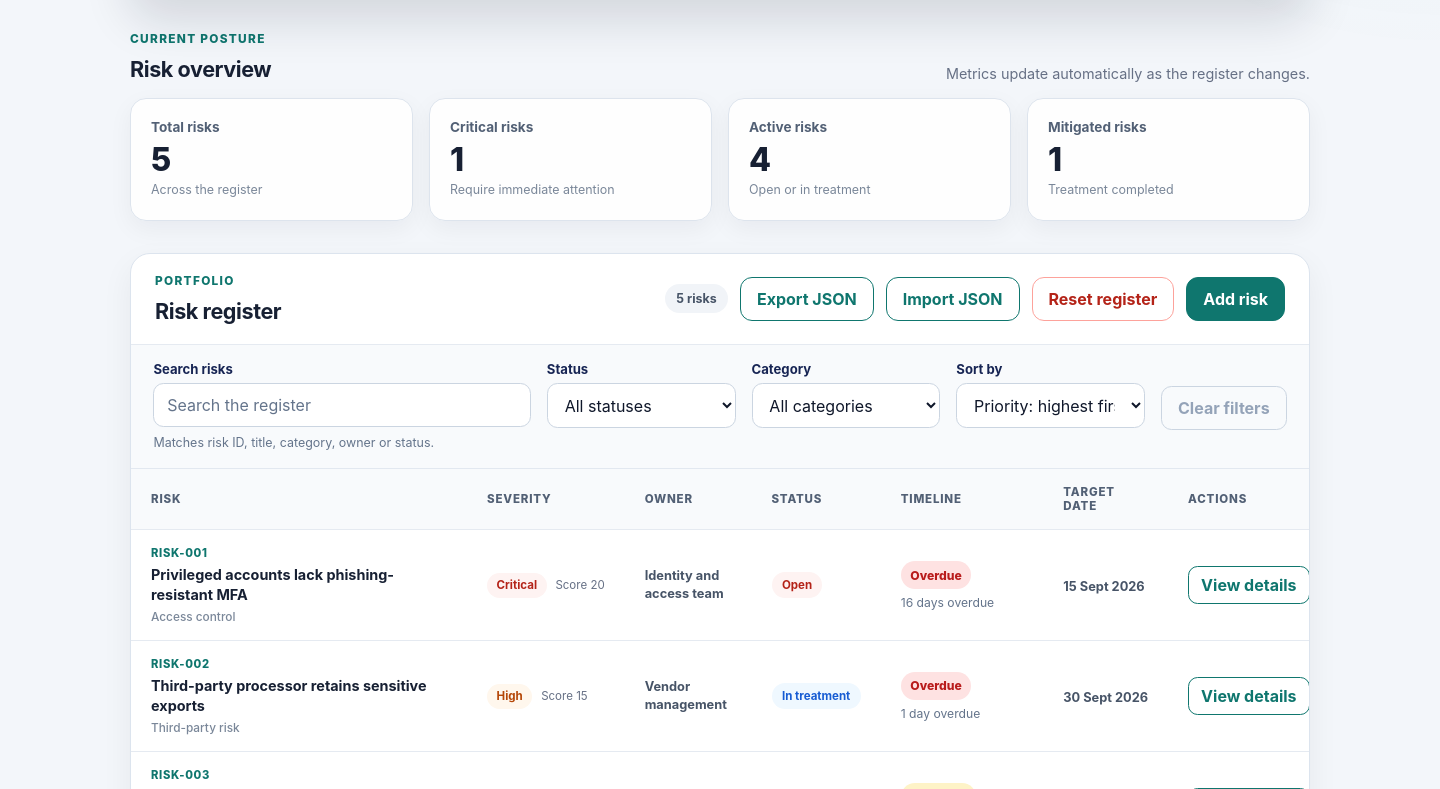
App › filters the register and reports when no risks match
(page scrolled)
Type "VENDOR" into the search field labelled "Search risks" at (342, 405), box [153,383,531,427]
(page scrolled)
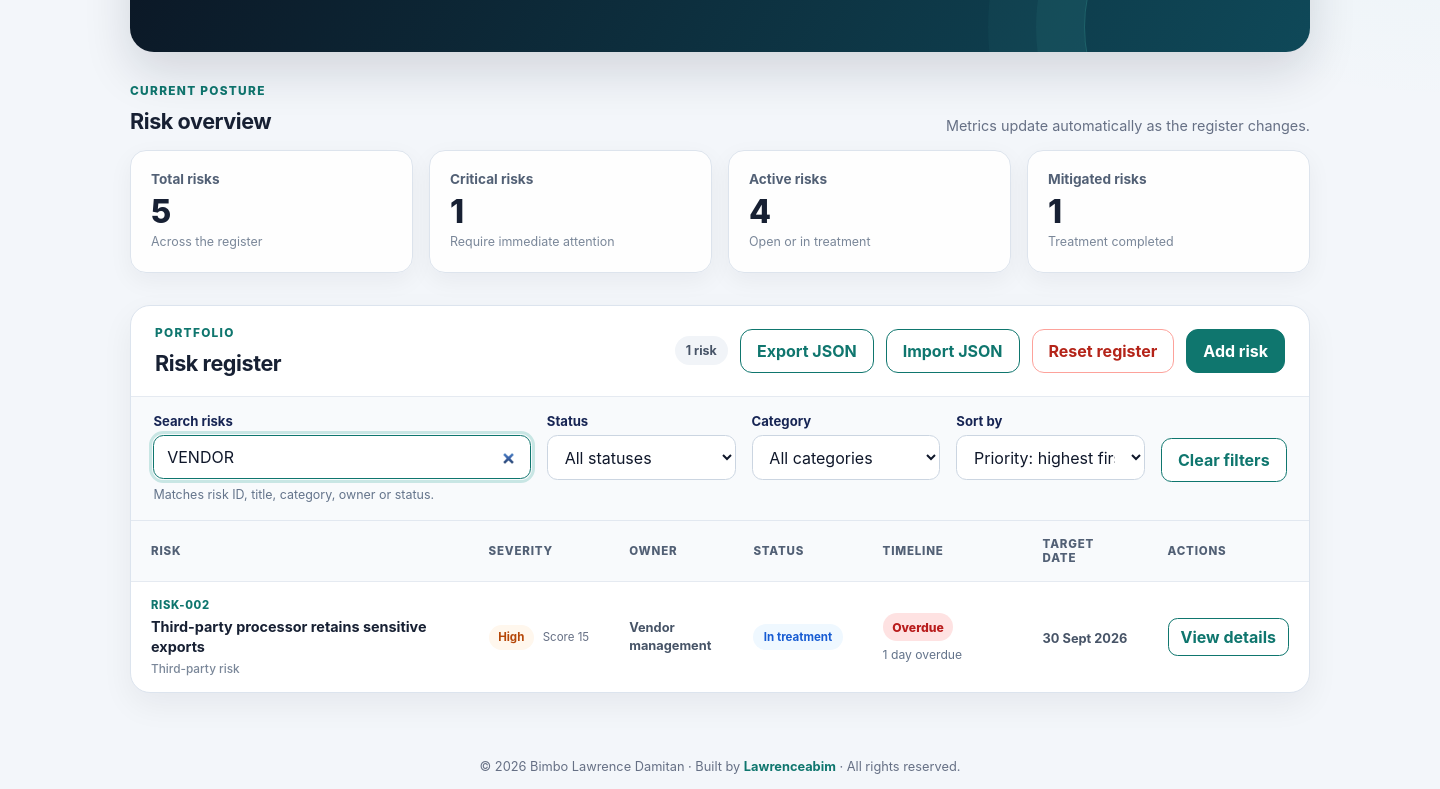
Check: the text "1 risk" is shown, box [674,336,728,365]
Check: the number of rows is 2, box [131,521,1309,582]; [131,582,1309,692]
Check: the text "Privileged accounts lack phishing-resistant MFA" is gone
Clear the search field labelled "Search risks" at (342, 457), box [153,435,531,479]
(page scrolled)
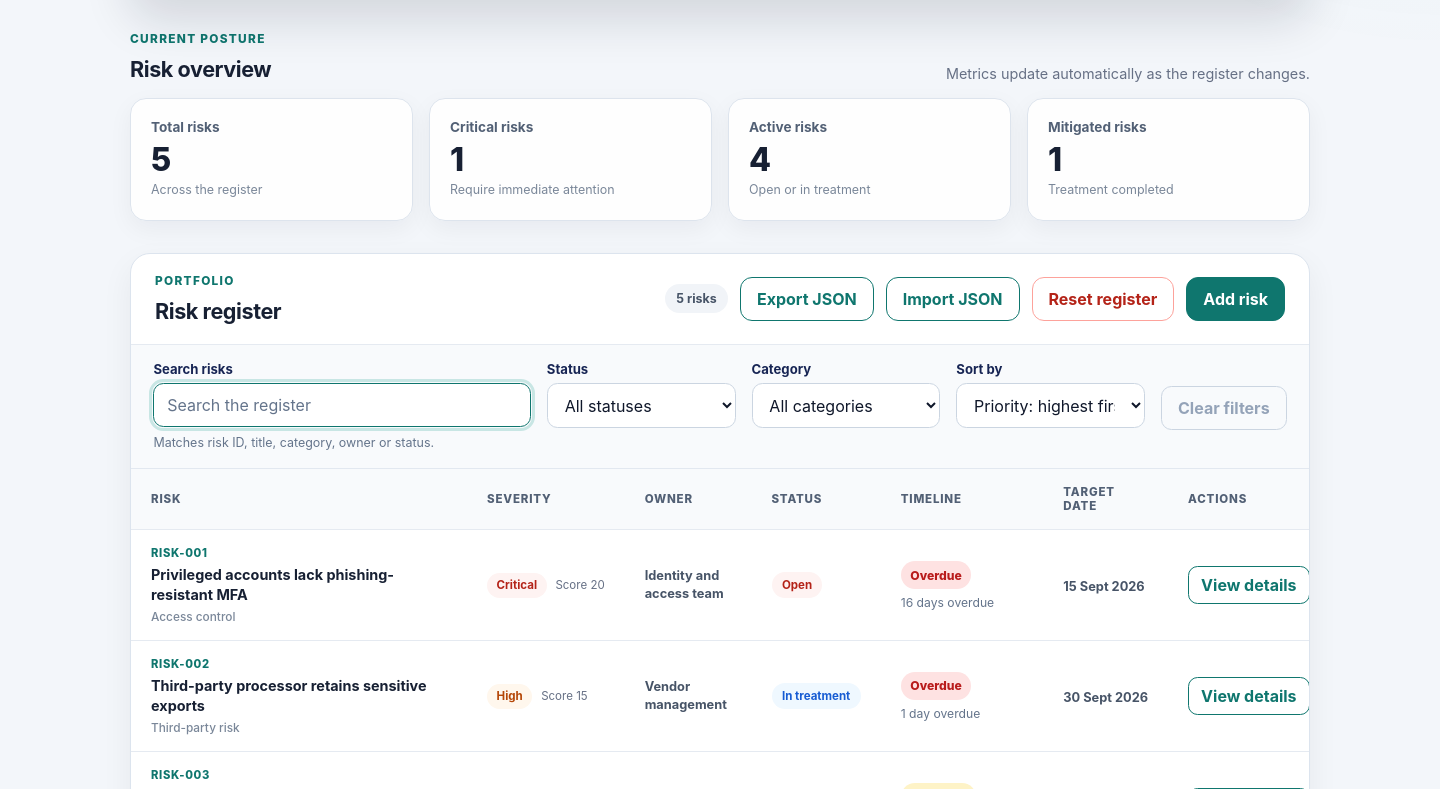
Type "unrecorded risk" into the search field labelled "Search risks" at (342, 405), box [153,383,531,427]
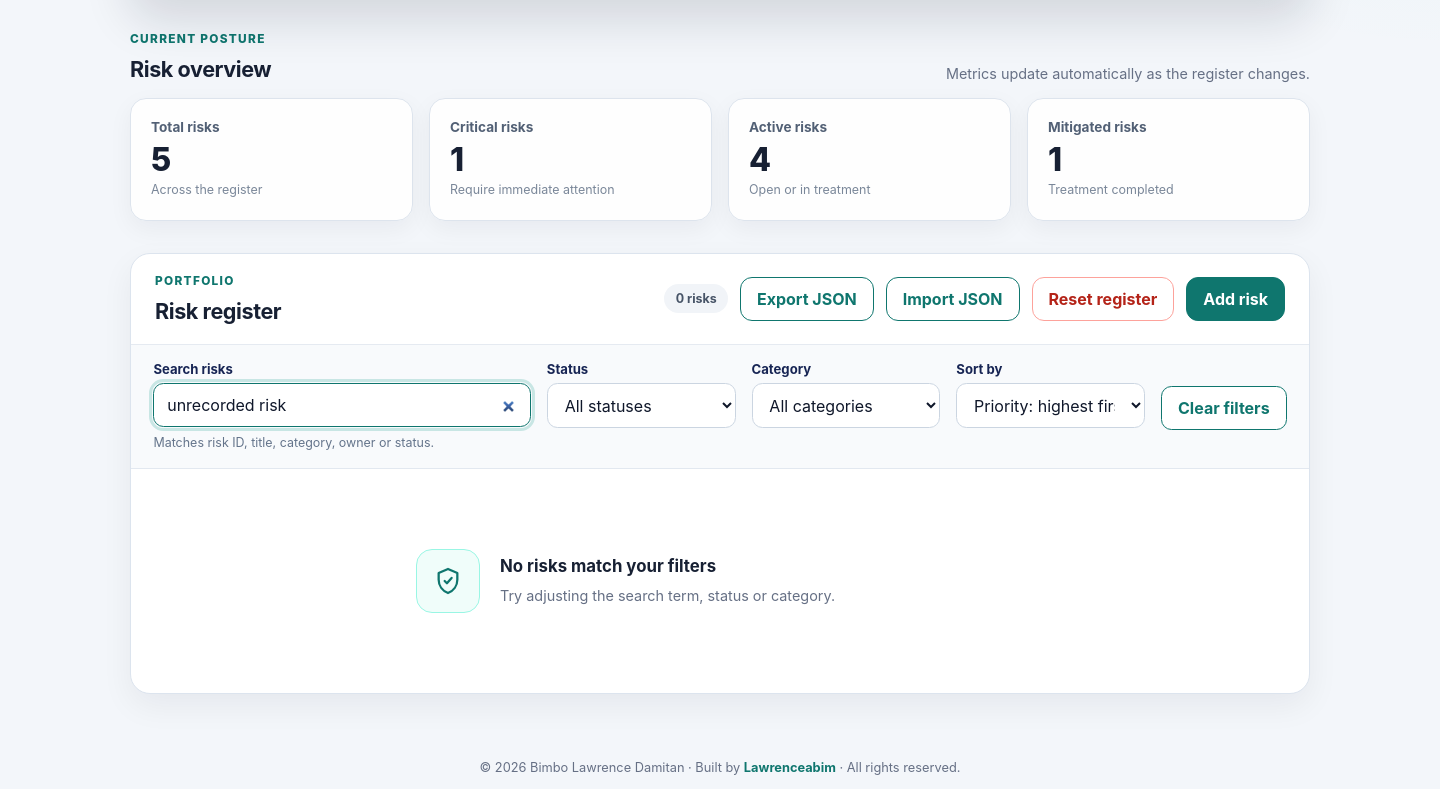
Check: the text "0 risks" is shown, box [664,284,728,313]
Check: the heading "No risks match your filters" is shown, box [500,556,716,576]
